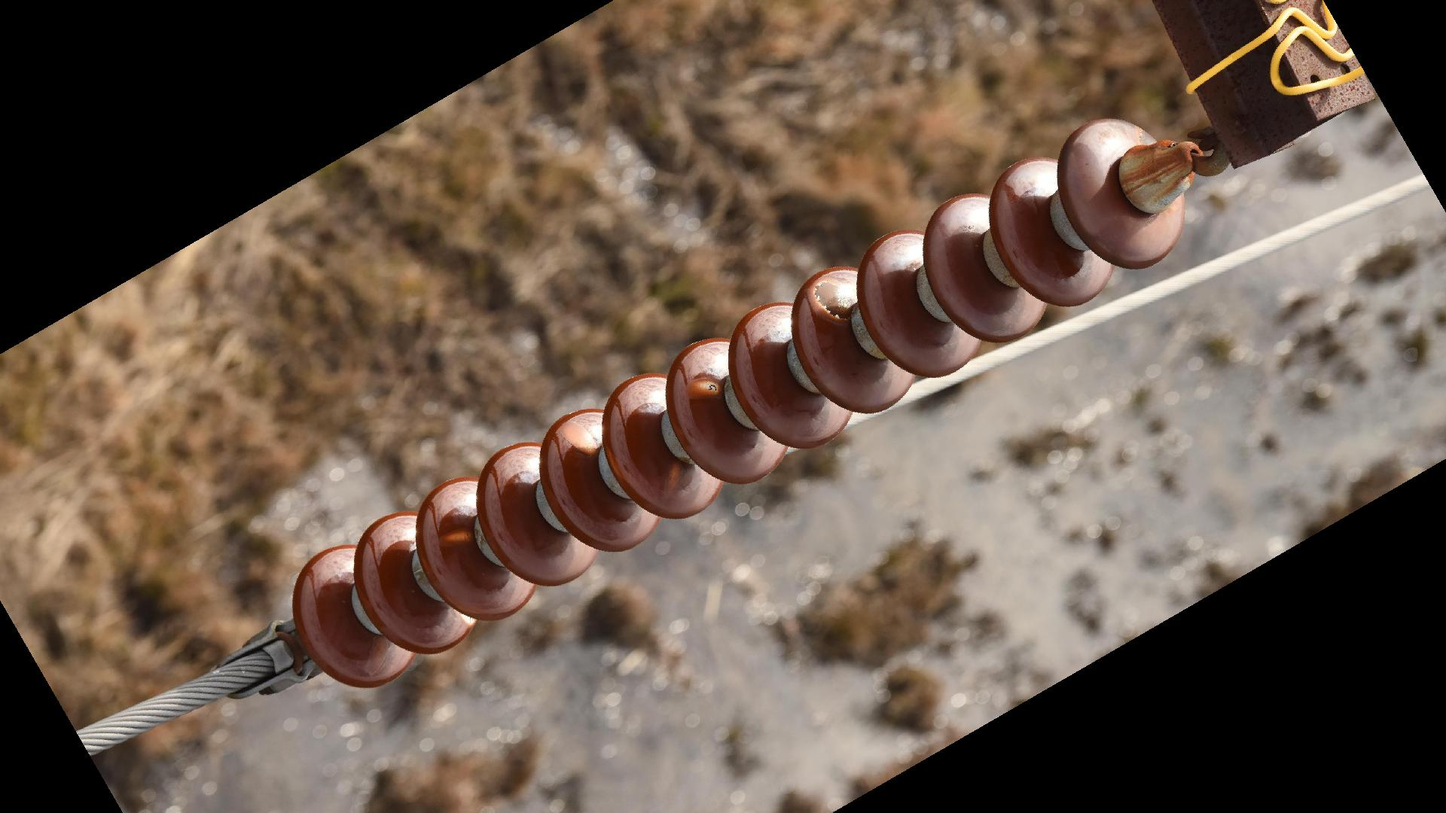insulator: (288, 112, 1191, 693)
insulator_flashover: (810, 272, 859, 323), (684, 373, 724, 403)
